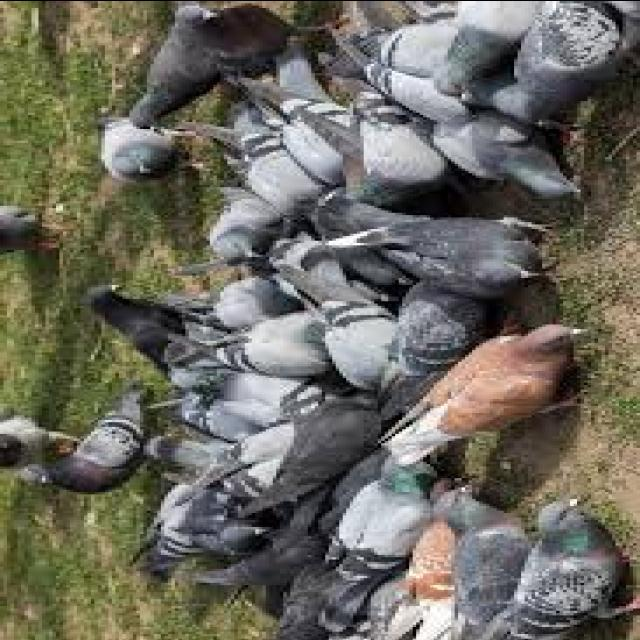pigeon: (370, 310, 600, 466)
